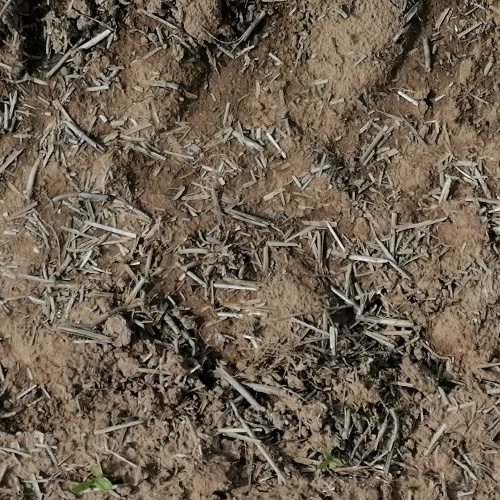beet: (73, 468, 116, 494), (318, 447, 345, 468)
